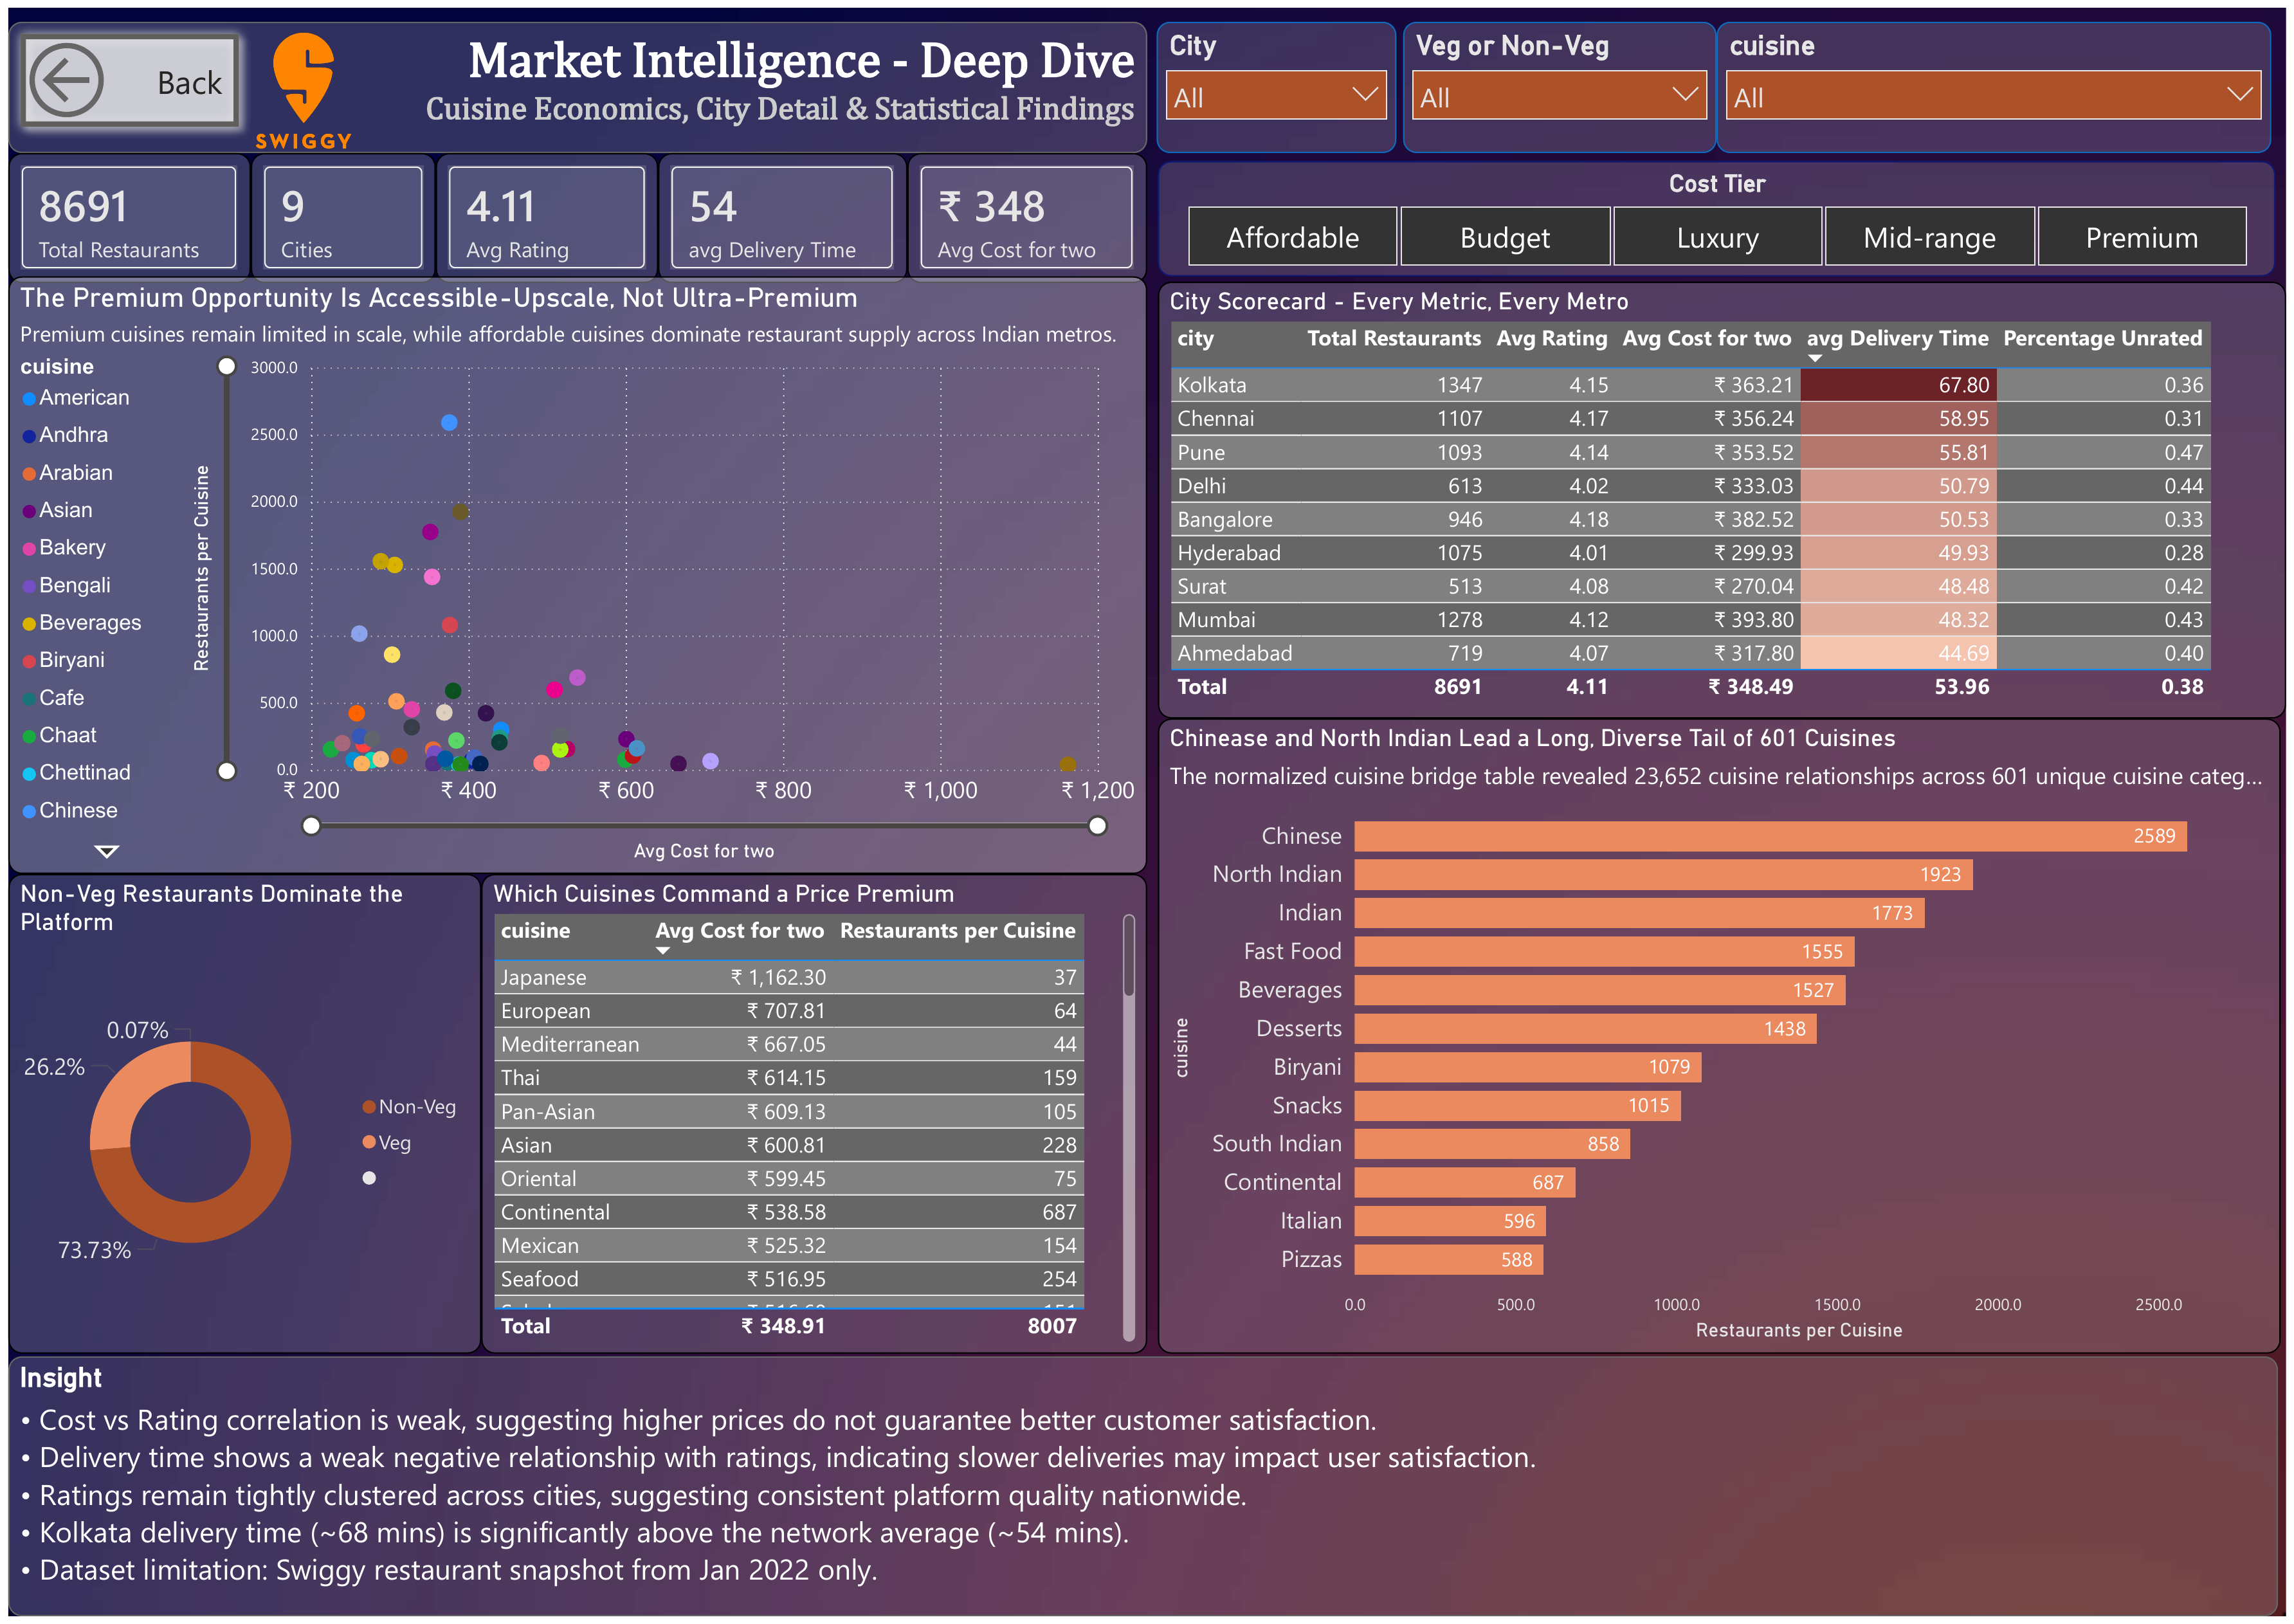

The page's visual inventory and layout, read from the dashboard file:
{"tool":"powerbi","page":{"name":"Analyst Dashboard","canvas":[1700,1200],"ordinal":1},"visuals":[{"type":"textbox","box":[0,10,850,98.3],"z":0},{"type":"cardVisual","fields":{"Data":["Measures (2).Total Restaurants"]},"box":[0,108.3,180.6,96.7],"z":1000},{"type":"cardVisual","fields":{"Data":["Measures (2).Avg Rating"]},"box":[318.8,108.3,166.5,96.7],"z":2000},{"type":"cardVisual","fields":{"Data":["Measures (2).Avg Cost for two"]},"box":[671.1,108.3,178.9,96.7],"z":3000},{"type":"cardVisual","fields":{"Data":["Measures (2).avg Delivery Time"]},"box":[485.2,108.3,185.9,96.7],"z":4000},{"type":"cardVisual","fields":{"Data":["Measures (2).Cities"]},"box":[180.6,108.3,138.1,96.7],"z":5000},{"type":"slicer","fields":{"Values":["restaurants_clean.city"]},"box":[857.1,10,178.9,98.3],"z":6000},{"type":"slicer","fields":{"Values":["restaurants_clean.veg"]},"box":[1041.2,10,233.8,98.3],"z":7000},{"type":"slicer","title":"Cost Tier","fields":{"Values":["restaurants_clean.cost_tier"]},"box":[858,114,834,86],"z":8000},{"type":"slicer","fields":{"Values":["restaurant_cuisines.cuisine"]},"box":[1275,10,414.4,98.3],"z":9000},{"type":"image","box":[141.7,0,157.6,123.3],"z":10000},{"type":"actionButton","box":[0,10,180.6,86.7],"z":11000},{"type":"scatterChart","title":"The Premium Opportunity Is Accessible-Upscale, Not Ultra-Premium","fields":{"X":["Measures (2).Avg Cost for two"],"Y":["restaurant_cuisines.Restaurants per Cuisine"],"Series":["restaurant_cuisines.cuisine"]},"box":[0,200,850,446],"z":12000},{"type":"clusteredBarChart","title":"Chinease and North Indian Lead a Long, Diverse Tail of 601 Cuisines","fields":{"Category":["restaurant_cuisines.cuisine"],"Y":["restaurant_cuisines.Restaurants per Cuisine"]},"box":[858,530,838,474],"z":13000},{"type":"tableEx","title":"City  Scorecard - Every Metric, Every Metro","fields":{"Values":["restaurants_clean.city","Measures (2).Total Restaurants","Measures (2).Avg Rating","Measures (2).Avg Cost for two","Measures (2).avg Delivery Time","Measures (2).Percentage Unrated"]},"box":[858,204,842,326],"z":14000},{"type":"donutChart","title":"Non-Veg Restaurants Dominate the Platform","fields":{"Category":["restaurants_clean.veg"],"Y":["CountNonNull(restaurants_clean.id)"]},"box":[0,646,352.8,358],"z":15000},{"type":"tableEx","title":"Which Cuisines Command a Price Premium","fields":{"Values":["restaurant_cuisines.cuisine","Measures (2).Avg Cost for two","restaurant_cuisines.Restaurants per Cuisine"]},"box":[352.8,646,497.2,358],"z":15000},{"type":"textbox","title":"Insight","box":[0,1006,1693.6,194],"z":16000}]}

Visuals, with their boxes in screenshot pixels (x1, y1, x2, y2), scaled from the page's 1700x1200 canvas onto the 2294x1624 screenshot:
textbox: bbox=[0, 14, 1147, 147]
cardVisual - Measures (2).Total Restaurants: bbox=[0, 147, 244, 277]
cardVisual - Measures (2).Avg Rating: bbox=[430, 147, 655, 277]
cardVisual - Measures (2).Avg Cost for two: bbox=[906, 147, 1147, 277]
cardVisual - Measures (2).avg Delivery Time: bbox=[655, 147, 906, 277]
cardVisual - Measures (2).Cities: bbox=[244, 147, 430, 277]
slicer - restaurants_clean.city: bbox=[1156, 14, 1398, 147]
slicer - restaurants_clean.veg: bbox=[1405, 14, 1720, 147]
"Cost Tier" slicer: bbox=[1158, 154, 2283, 271]
slicer - restaurant_cuisines.cuisine: bbox=[1720, 14, 2280, 147]
image: bbox=[191, 0, 404, 167]
actionButton: bbox=[0, 14, 244, 131]
"The Premium Opportunity Is Accessible-Upscale, Not Ultra-Premium" scatterChart: bbox=[0, 271, 1147, 874]
"Chinease and North Indian Lead a Long, Diverse Tail of 601 Cuisines" clusteredBarChart: bbox=[1158, 717, 2289, 1359]
"City  Scorecard - Every Metric, Every Metro" tableEx: bbox=[1158, 276, 2293, 717]
"Non-Veg Restaurants Dominate the Platform" donutChart: bbox=[0, 874, 476, 1359]
"Which Cuisines Command a Price Premium" tableEx: bbox=[476, 874, 1147, 1359]
"Insight" textbox: bbox=[0, 1362, 2286, 1623]
